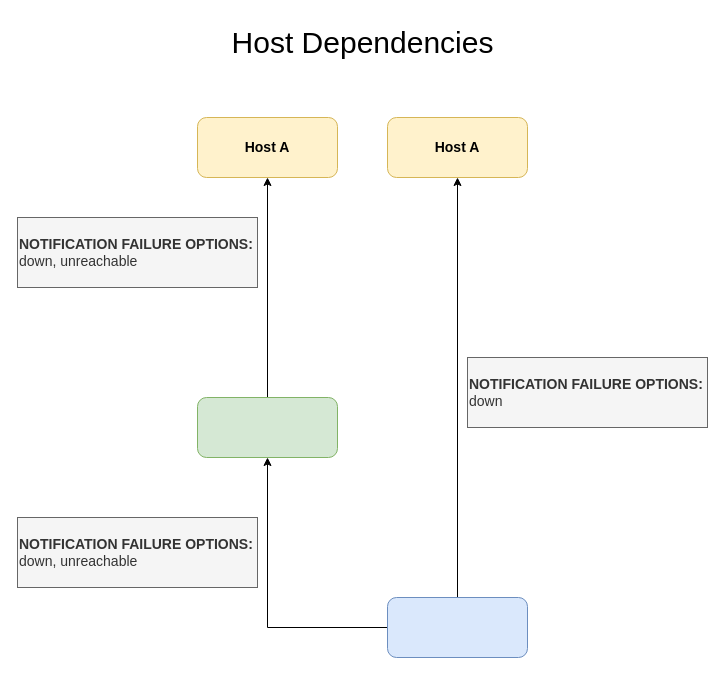
Some shapes in this 725 by 675 pixel diagram are drawn without their labels. Here are the shapes that lost their labels. From the top down, the box of each, then its label:
(196, 396, 338, 458): Host B
(386, 596, 528, 658): Host C
